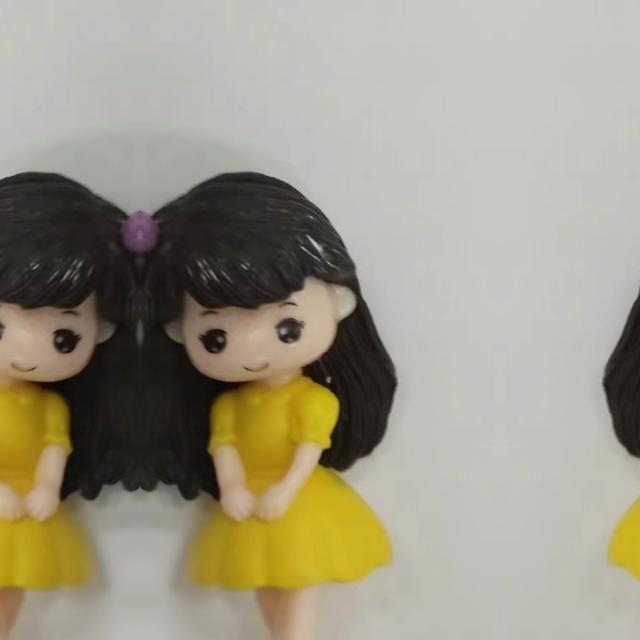woman dress: (185, 365, 404, 640), (0, 365, 94, 640), (595, 365, 640, 640)
woman head: (144, 162, 384, 386), (0, 161, 136, 386), (616, 161, 640, 386)
